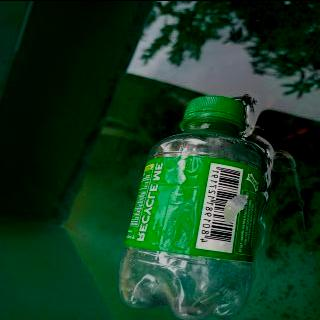bottle: (116, 94, 268, 320)
